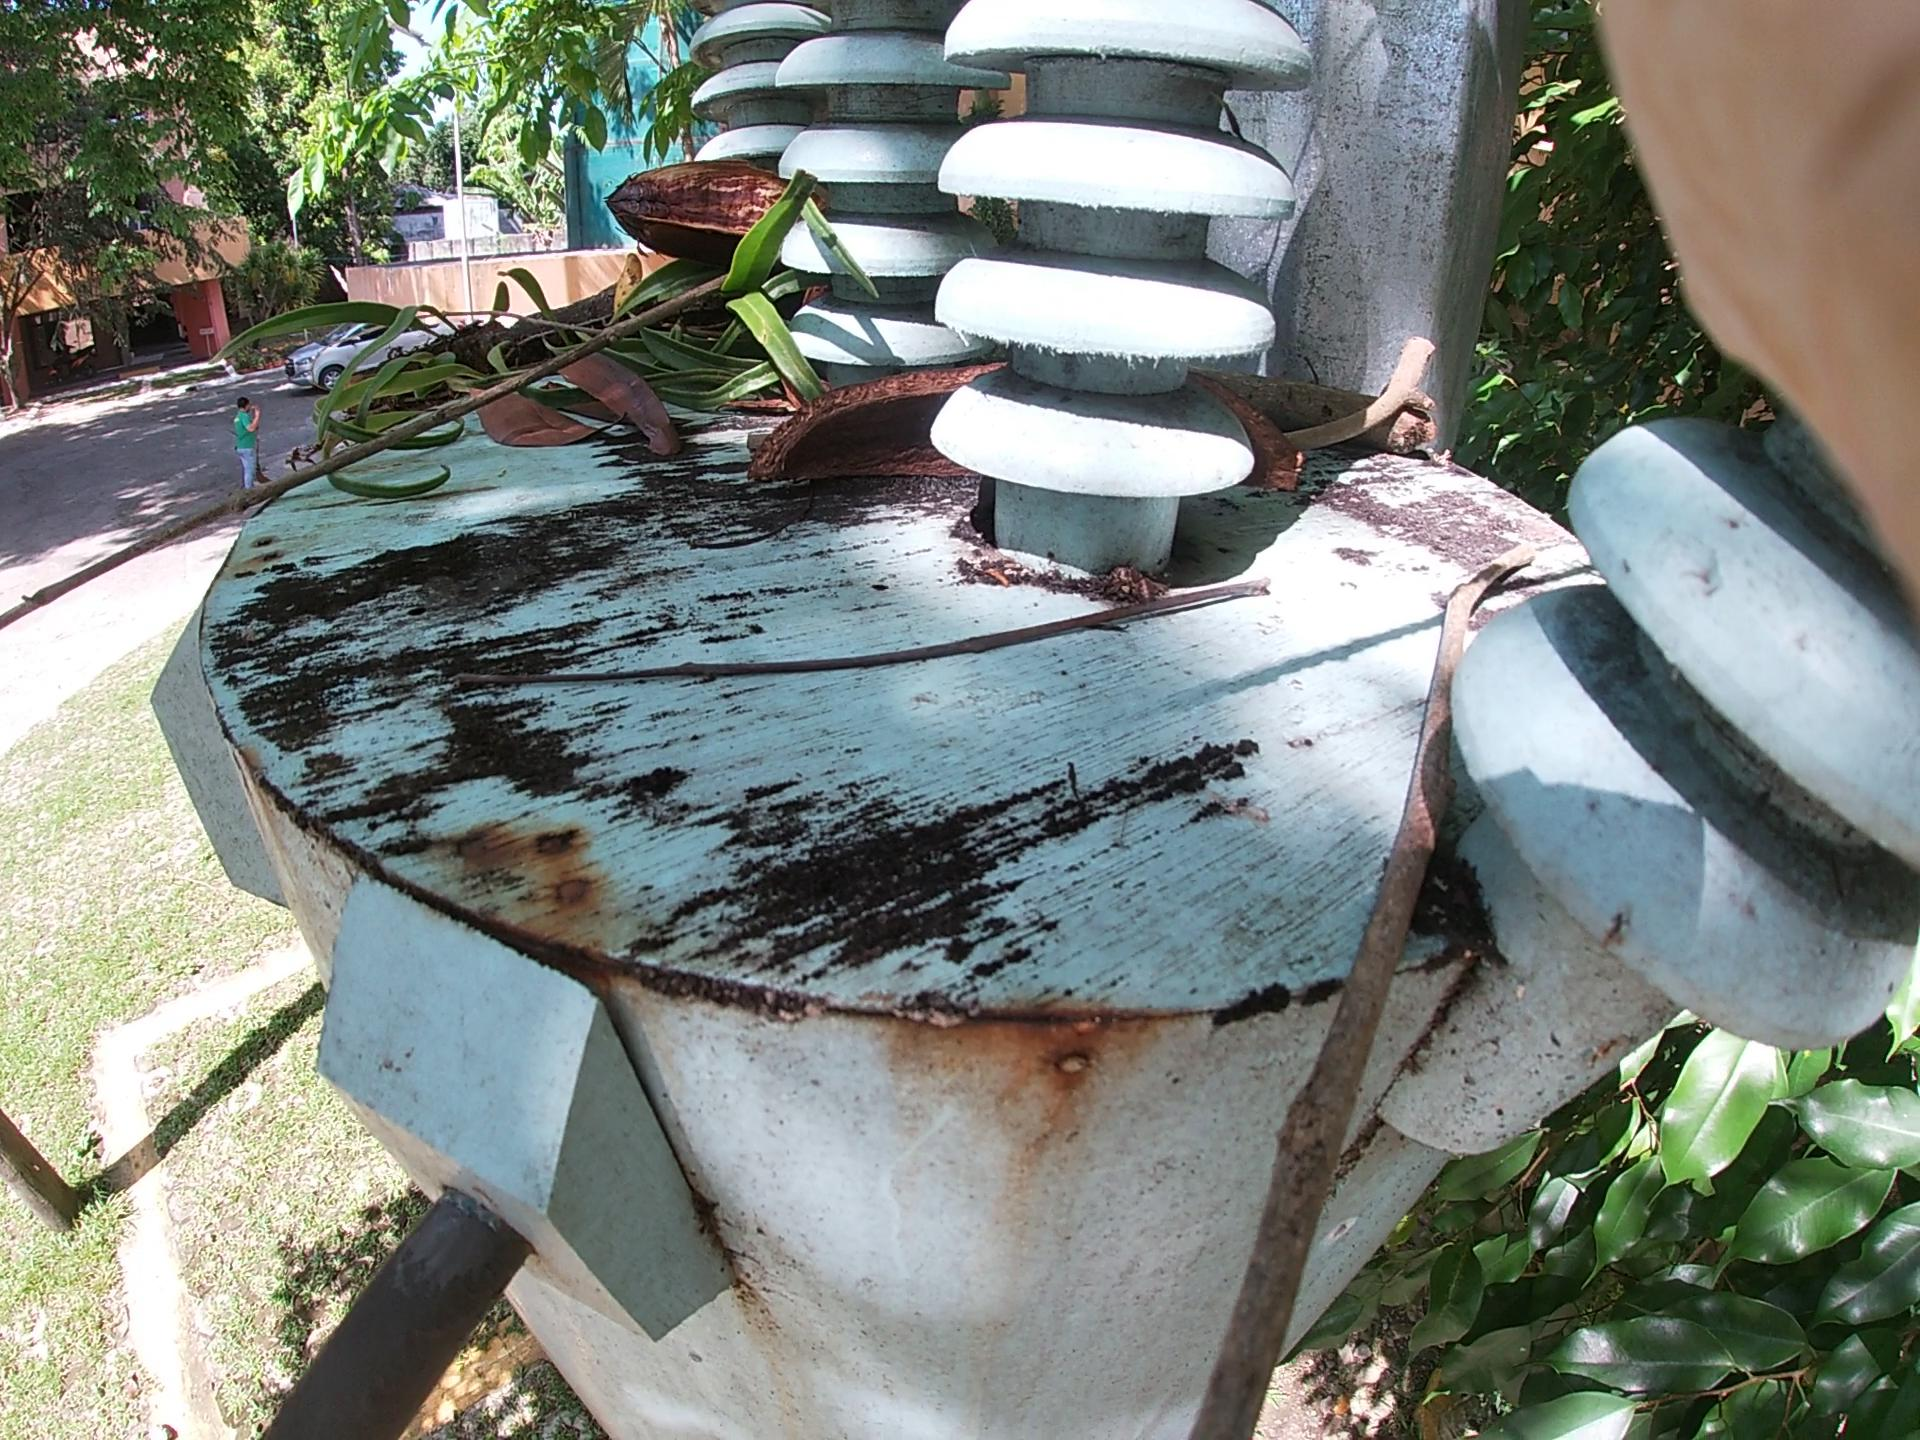branch with leaves: (372, 260, 801, 492)
leaf: (494, 346, 703, 498)
mahogany fruit: (757, 318, 1339, 563), (537, 97, 874, 375)
tree branch: (1246, 489, 1510, 1352), (11, 309, 730, 594), (500, 570, 1252, 682), (1259, 327, 1500, 507)
